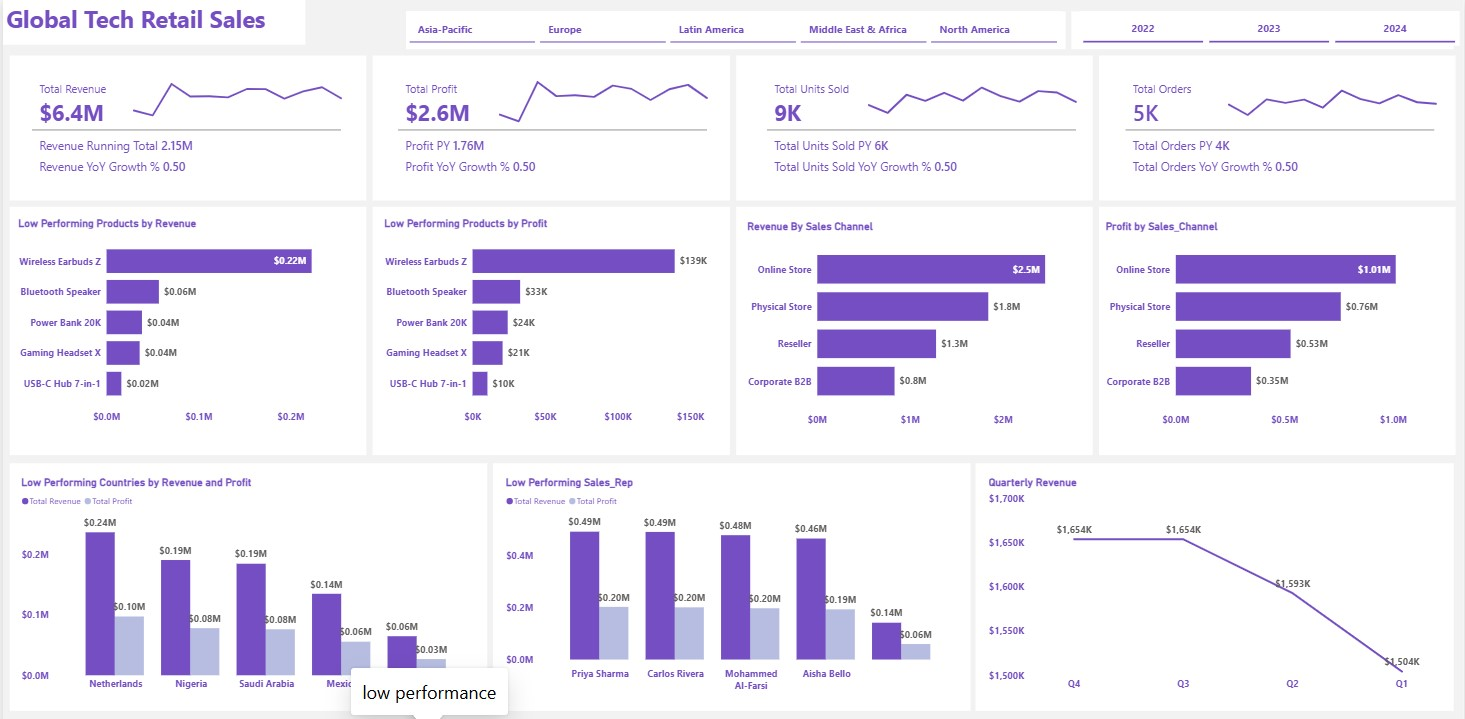

The page's visual inventory and layout, read from the dashboard file:
{"tool":"powerbi","page":{"name":"low performance","canvas":[2320,1180],"ordinal":1},"visuals":[{"type":"textbox","box":[0,0,480,72.5],"z":0},{"type":"advancedSlicerVisual","fields":{"Values":["Region.Region"]},"box":[640,20,1040,55],"z":1000},{"type":"advancedSlicerVisual","fields":{"Values":["Dates.Year"]},"box":[1710,20,602.5,55],"z":2000},{"type":"clusteredBarChart","title":"Low Performing Products by Revenue","fields":{"Category":["Product_Name.Product_Name"],"Y":["Revenue & Volume.Total Revenue"]},"box":[20,345,547.5,337.5],"z":3000},{"type":"clusteredBarChart","title":"Low Performing Products by Profit","fields":{"Category":["Product_Name.Product_Name"],"Y":["Revenue & Volume.Total Profit"]},"box":[600,345,547.5,337.5],"z":4000},{"type":"clusteredColumnChart","title":"Low Performing Countries by Revenue and Profit","fields":{"Y":["Revenue & Volume.Total Revenue","Revenue & Volume.Total Profit"],"Category":["Country.Country"]},"box":[23.3,756.7,735,350],"z":5000},{"type":"clusteredColumnChart","title":"Low Performing Sales_Rep","fields":{"Category":["Sales_Rep.Sales_Rep"],"Y":["Revenue & Volume.Total Revenue","Revenue & Volume.Total Profit"]},"box":[792.5,757.5,735,350],"z":6000},{"type":"lineChart","title":"Quarterly Revenue","fields":{"Y":["Revenue & Volume.Total Revenue"],"Category":["Dates.Short_Quarter"]},"box":[1560,757.5,735,350],"z":7000},{"type":"clusteredBarChart","title":"Revenue By Sales Channel","fields":{"Category":["Sales_Channel.Sales_Channel"],"Y":["Revenue & Volume.Total Revenue"]},"box":[1175,350,545,337.5],"z":8000},{"type":"clusteredBarChart","title":"Profit by Sales_Channel","fields":{"Category":["Sales_Channel.Sales_Channel"],"Y":["Revenue & Volume.Total Profit"]},"box":[1745,350,545,337.5],"z":9000},{"type":"cardVisual","title":"Total Revenue","fields":{"Data":["Revenue & Volume.Total Revenue"]},"box":[27.5,110,525,195],"z":10000},{"type":"cardVisual","title":"Total Profit","fields":{"Data":["Revenue & Volume.Total Profit"]},"box":[610,110,525,195],"z":11000},{"type":"cardVisual","title":"Total Units Sold","fields":{"Data":["Revenue & Volume.Total Units Sold"]},"box":[1195,110,525,195],"z":12000},{"type":"cardVisual","title":"Profit Margin %","fields":{"Data":["Revenue & Volume.Total Orders"]},"box":[1765,110,525,195],"z":13000},{"type":"lineChart","fields":{"Category":["Dates.Short_Month"],"Y":["Revenue & Volume.Total Profit"]},"box":[772.5,117.5,362.5,90],"z":14000},{"type":"lineChart","fields":{"Category":["Dates.Short_Month"],"Y":["Revenue & Volume.Total Revenue"]},"box":[190,117.5,362.5,90],"z":15000},{"type":"lineChart","fields":{"Category":["Dates.Short_Month"],"Y":["Revenue & Volume.Total Units Sold"]},"box":[1357.5,117.5,362.5,90],"z":16000},{"type":"lineChart","fields":{"Category":["Dates.Short_Month"],"Y":["Revenue & Volume.Total Orders"]},"box":[1927.5,117.5,362.5,90],"z":17000}]}

Visuals, with their boxes on the page's 2320x1180 design canvas (x1, y1, x2, y2). These are canvas units, not pixel positions in the 1465x719 screenshot, which may show the page scaled, cropped or inside an application window:
textbox: region(0, 0, 480, 72)
advancedSlicerVisual - Region.Region: region(640, 20, 1680, 75)
advancedSlicerVisual - Dates.Year: region(1710, 20, 2312, 75)
"Low Performing Products by Revenue" clusteredBarChart: region(20, 345, 568, 682)
"Low Performing Products by Profit" clusteredBarChart: region(600, 345, 1148, 682)
"Low Performing Countries by Revenue and Profit" clusteredColumnChart: region(23, 757, 758, 1107)
"Low Performing Sales_Rep" clusteredColumnChart: region(792, 758, 1528, 1108)
"Quarterly Revenue" lineChart: region(1560, 758, 2295, 1108)
"Revenue By Sales Channel" clusteredBarChart: region(1175, 350, 1720, 688)
"Profit by Sales_Channel" clusteredBarChart: region(1745, 350, 2290, 688)
"Total Revenue" cardVisual: region(28, 110, 552, 305)
"Total Profit" cardVisual: region(610, 110, 1135, 305)
"Total Units Sold" cardVisual: region(1195, 110, 1720, 305)
"Profit Margin %" cardVisual: region(1765, 110, 2290, 305)
lineChart - Dates.Short_Month x Revenue & Volume.Total Profit: region(772, 118, 1135, 208)
lineChart - Dates.Short_Month x Revenue & Volume.Total Revenue: region(190, 118, 552, 208)
lineChart - Dates.Short_Month x Revenue & Volume.Total Units Sold: region(1358, 118, 1720, 208)
lineChart - Dates.Short_Month x Revenue & Volume.Total Orders: region(1928, 118, 2290, 208)
